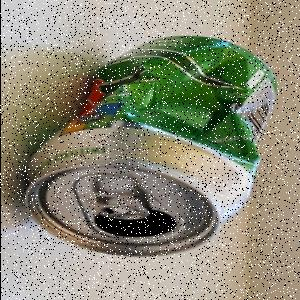Can: (22, 36, 282, 260)
